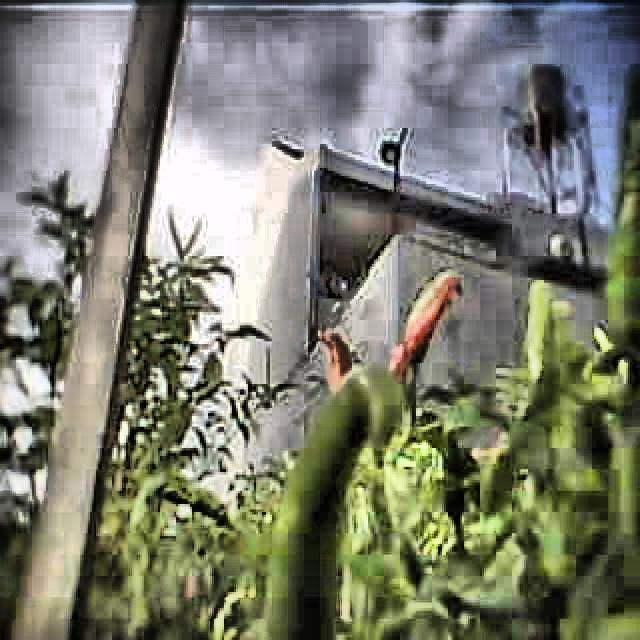Cabai: (373, 261, 473, 386)
